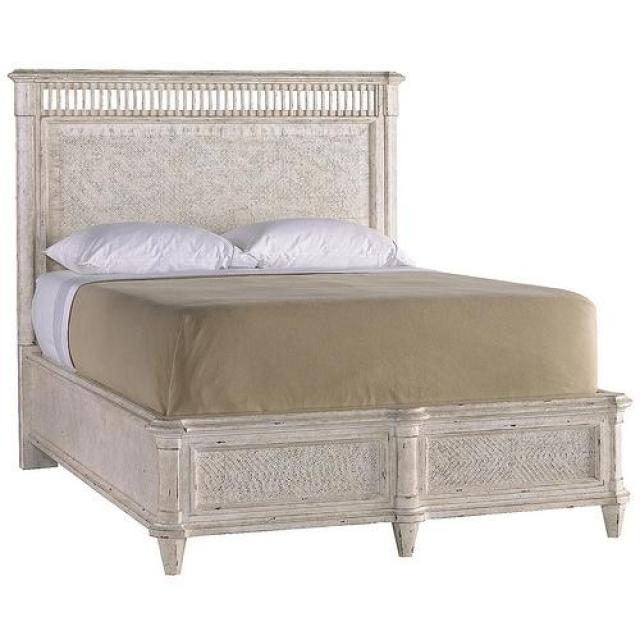bed: (13, 210, 625, 579)
